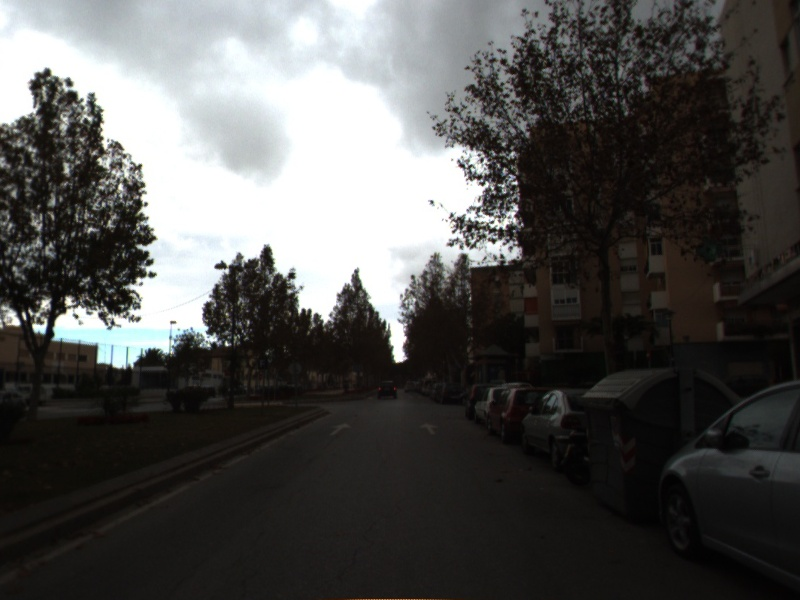STRAIGHT: (327, 421, 355, 438), (417, 420, 442, 436)
